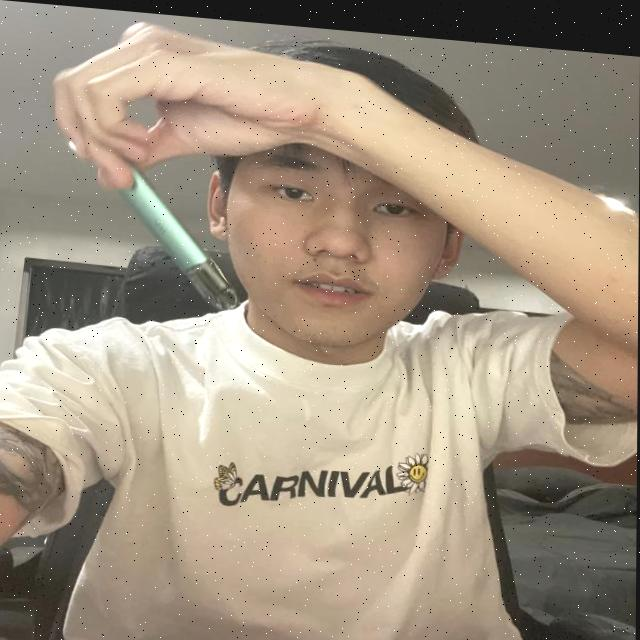vape: (93, 147, 240, 315)
